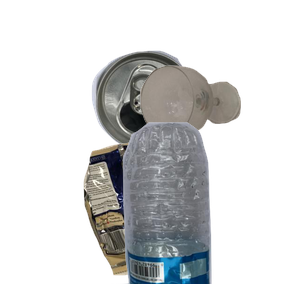glass: (138, 63, 300, 191)
metal: (89, 48, 276, 192)
plastic: (111, 120, 300, 300)
trash: (81, 137, 280, 300)
